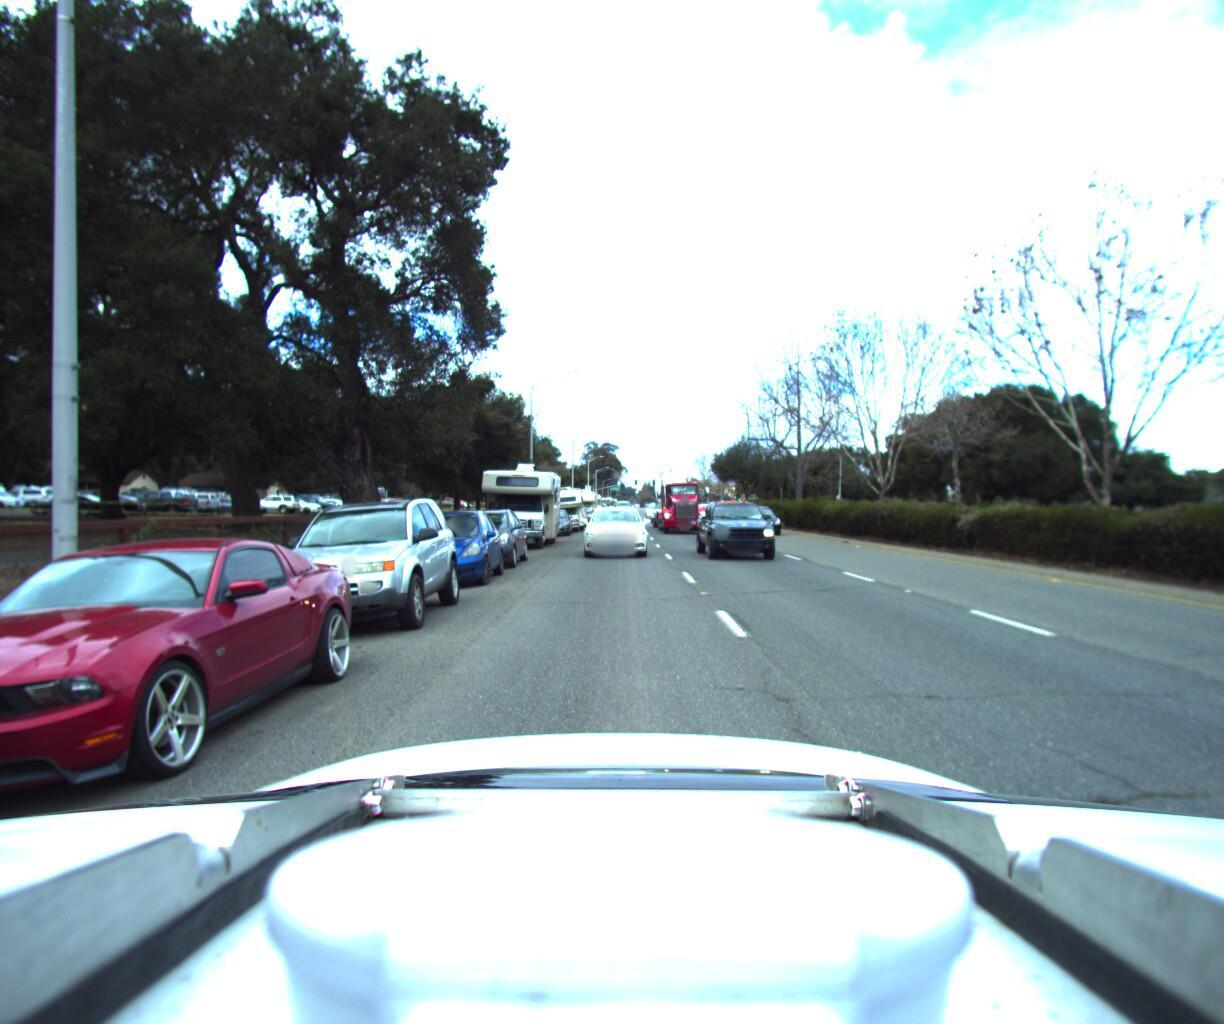car: (0, 519, 357, 892), (239, 485, 457, 644), (387, 500, 504, 588), (690, 486, 784, 559), (438, 499, 527, 568), (577, 496, 649, 555), (738, 501, 790, 534), (534, 499, 571, 531)
other_vehicle: (471, 449, 562, 545), (537, 476, 585, 528), (566, 480, 598, 513)
truck: (648, 454, 706, 532)
